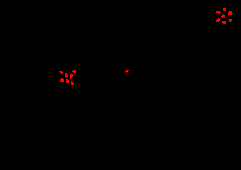Target: (228, 11, 233, 15), (221, 14, 225, 18), (216, 18, 220, 22), (60, 78, 64, 82), (216, 11, 221, 14), (65, 73, 68, 78), (70, 74, 73, 79), (222, 21, 226, 24), (72, 70, 76, 73), (125, 70, 129, 73), (59, 71, 63, 74), (66, 79, 69, 83), (71, 81, 74, 85), (223, 8, 226, 11), (229, 19, 232, 22)
